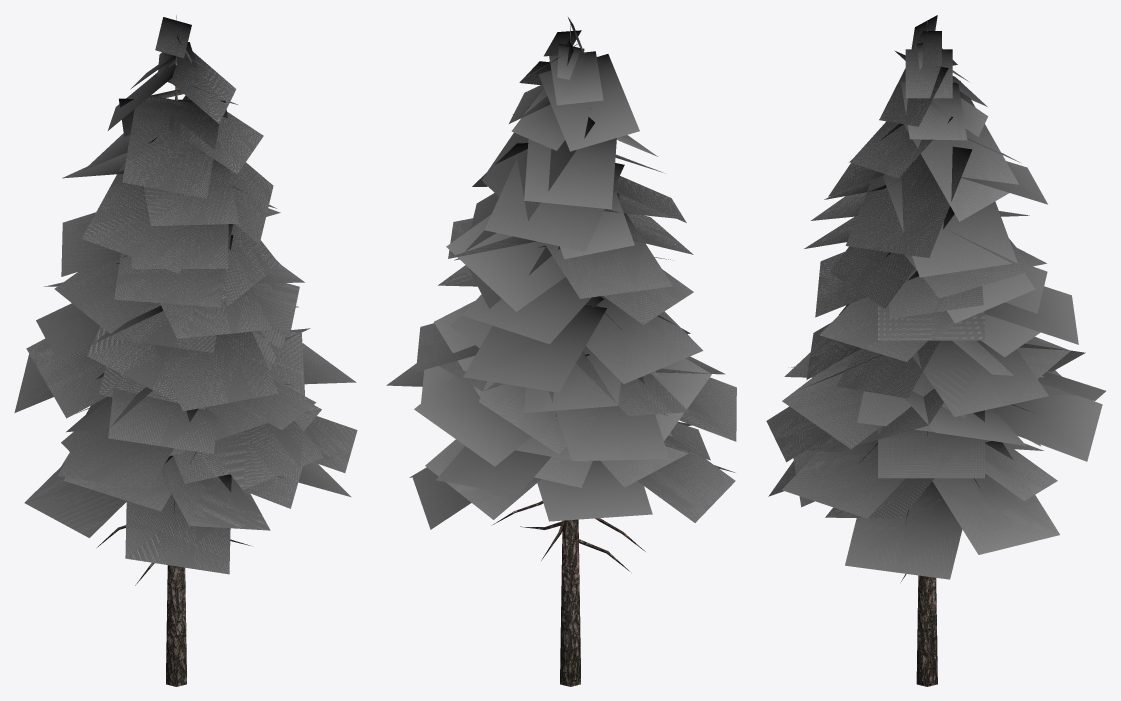
The model's file is tree14A.FBX.
3 renders of one model, left to right at view 1: azimuth 30°, elevation 25°; view 2: azimuth 150°, elevation 25°; view 3: azimuth 270°, elevation 25°, orthographic.
Parts seen in each view (by area): view 1: Tree14A_leafs, Tree14A_leafs_flip, Tree14A_trunk; view 2: Tree14A_leafs, Tree14A_leafs_flip, Tree14A_trunk; view 3: Tree14A_leafs, Tree14A_leafs_flip, Tree14A_trunk.
Boxes of the visible parts, x1,y1,x2,y2 form: Tree14A_leafs: (14,17,357,574); Tree14A_leafs_flip: (16,17,356,573); Tree14A_trunk: (97,15,250,686); Tree14A_leafs: (386,17,736,529); Tree14A_leafs_flip: (392,17,736,527); Tree14A_trunk: (491,19,645,686); Tree14A_leafs: (766,15,1105,579); Tree14A_leafs_flip: (768,17,1104,579); Tree14A_trunk: (859,21,1033,686).
Bounding box in the file's own units: 1788 × 3826 × 1767.
